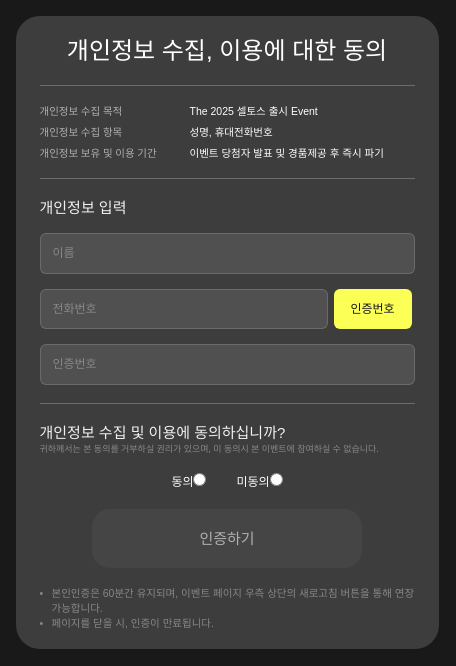
Test case: AuthModal 인증 관련 테스트 › 인증 번호가 맞지 않은 상태에서 인증하기 버튼을 누르면 오류 토스트를 보여줘야 한다.
Type "강준우" into the field with placeholder "이름" at [227, 253], box [40, 233, 414, 274]
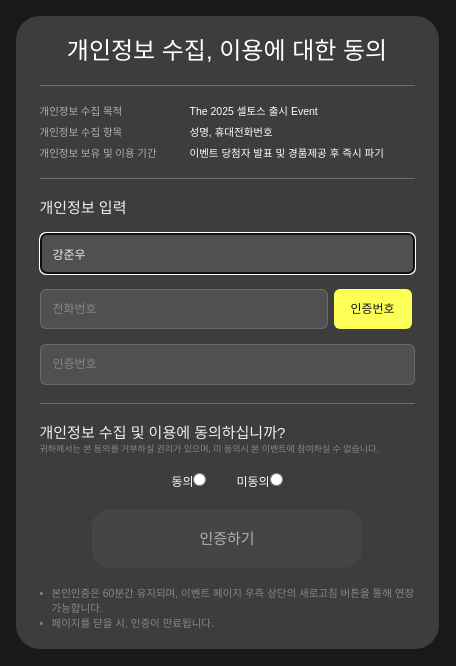
Type "01011111111" into the field with placeholder "전화번호" at [184, 309], box [40, 289, 328, 329]
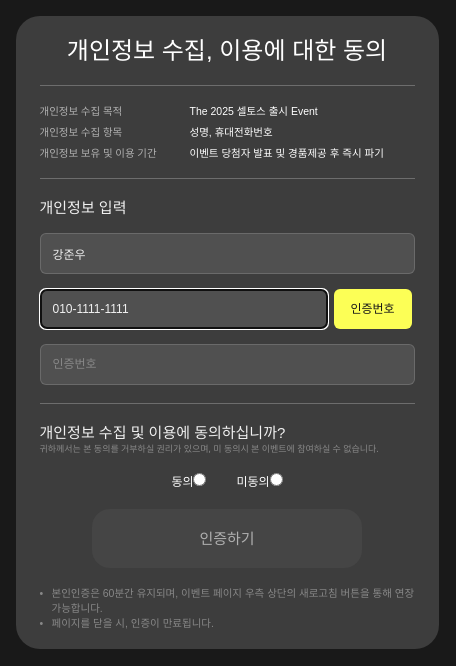
Type "111111" into the field with placeholder "인증번호" at [227, 364], box [40, 344, 414, 385]
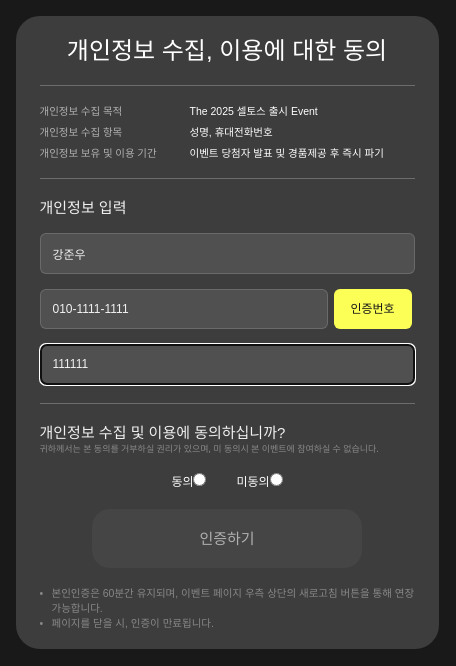
Click the radio button labelled "동의" at [200, 479], box [194, 473, 206, 486]
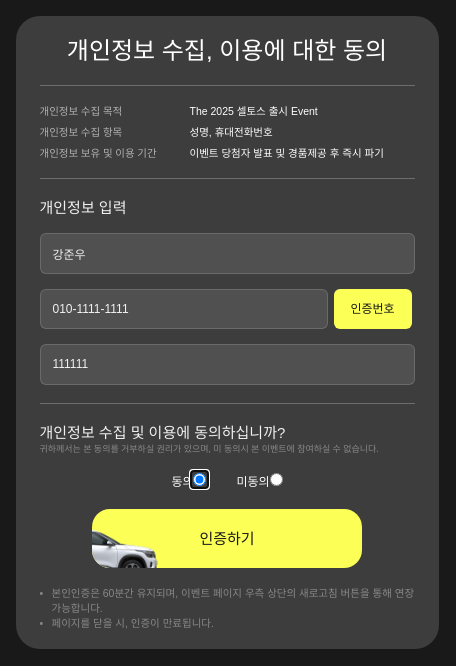
Click the button "인증하기" at [227, 539], box [92, 509, 362, 568]
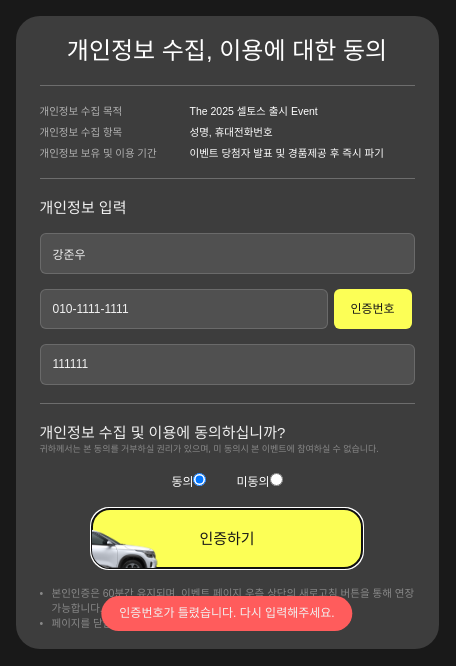
Result: the text "인증번호가 틀렸습니다. 다시 입력해주세요." is shown at [101, 596, 353, 630]
